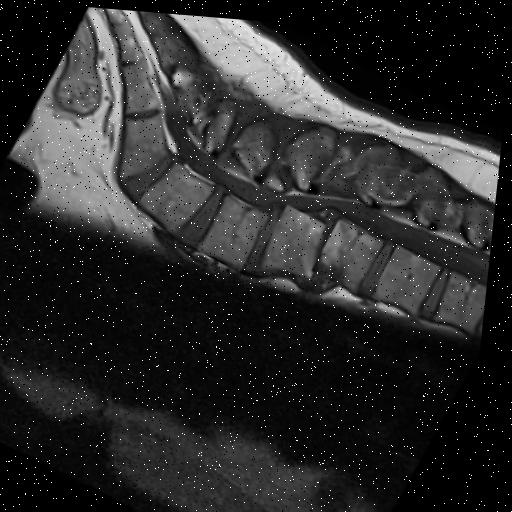L1: (376, 237, 445, 307)
L2: (323, 212, 386, 284)
L3: (266, 199, 330, 271)
L4: (201, 189, 272, 262)
L5: (141, 158, 217, 228)
S1: (125, 108, 172, 174)
